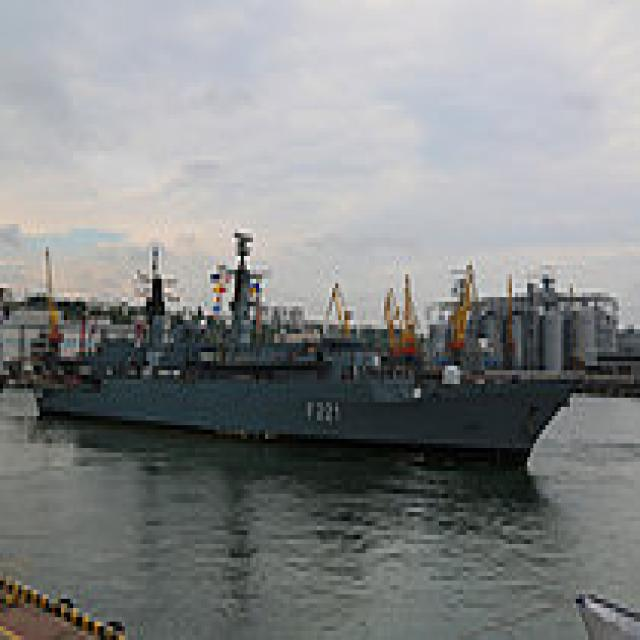Warship: (28, 224, 582, 466)
